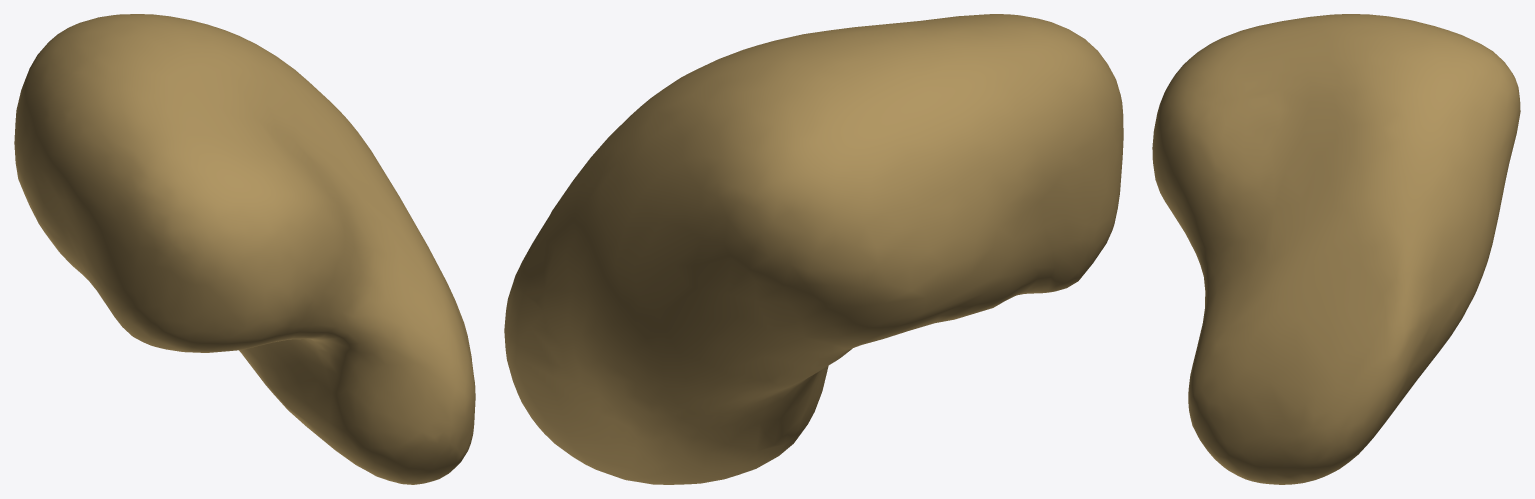
3 views of the same model, side by side, from view 1: azimuth 30°, elevation 25°; view 2: azimuth 150°, elevation 25°; view 3: azimuth 270°, elevation 25° (orthographic). The views are drawn at different scales.
Visible parts, largest first — view 1: 左侧小脑扁桃体; view 2: 左侧小脑扁桃体; view 3: 左侧小脑扁桃体.
Boxes of the visible parts, x1,y1,x2,y2 form: 左侧小脑扁桃体: (14,14,475,484); 左侧小脑扁桃体: (504,14,1123,484); 左侧小脑扁桃体: (1152,14,1520,484).
Bounding box in the file's own units: 0.0321 × 0.033 × 0.0301.
